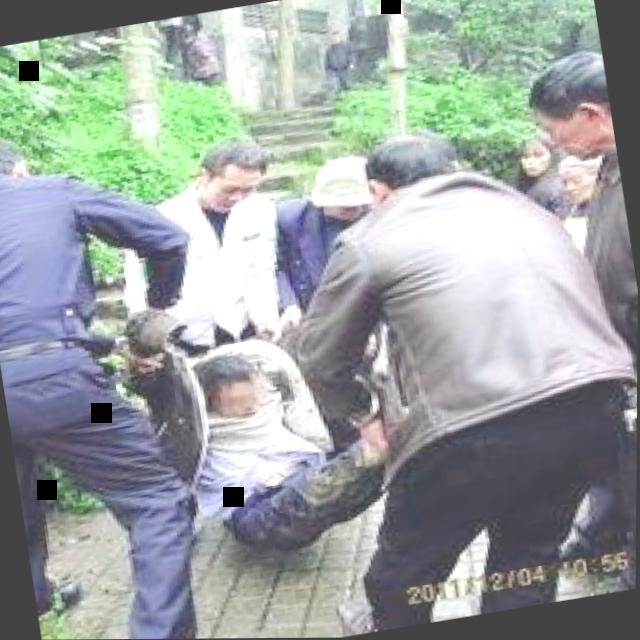Fall-Detected: (146, 299, 401, 573)
